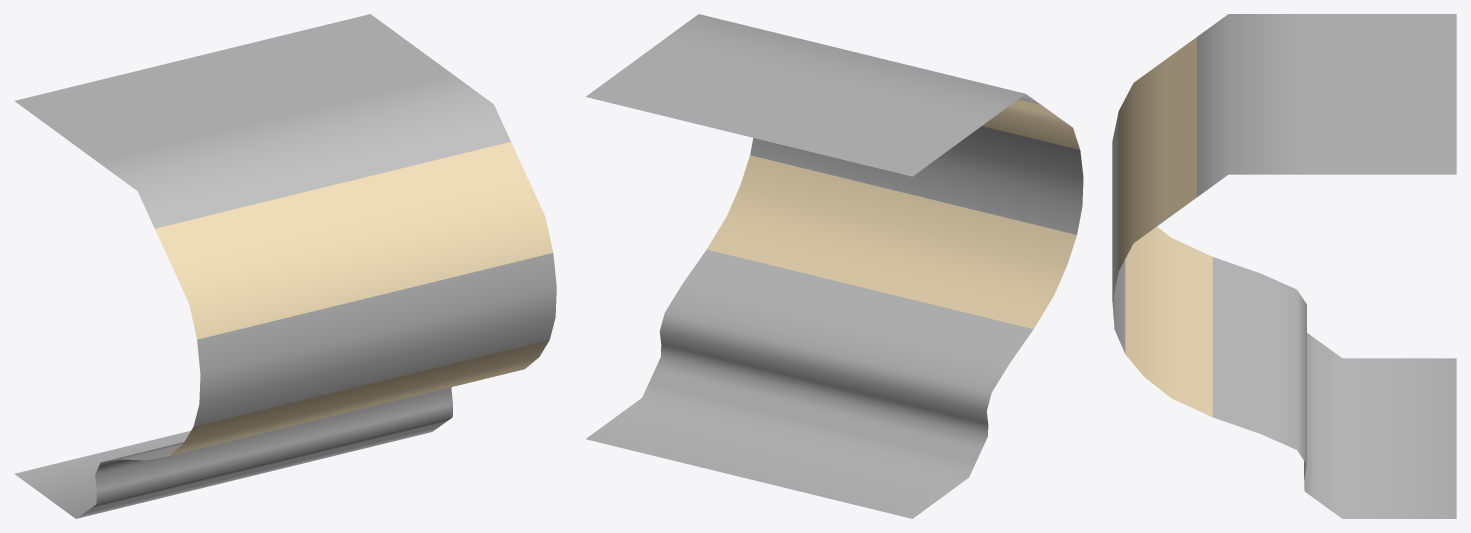
File: pf_rail_c.glb
The picture shows the model from 3 angles, left to right: view 1: azimuth 30°, elevation 25°; view 2: azimuth 150°, elevation 25°; view 3: azimuth 270°, elevation 25°; orthographic projection. The views are drawn at different scales.
Visible parts, largest first — view 1: pf_rail_c; view 2: pf_rail_c; view 3: pf_rail_c.
Boxes of the visible parts, x1=… form: pf_rail_c: x1=14, y1=14, x2=556, y2=518; pf_rail_c: x1=586, y1=14, x2=1083, y2=518; pf_rail_c: x1=1112, y1=14, x2=1456, y2=518.
Bounding box in the file's own units: 1 × 1 × 0.9056.
